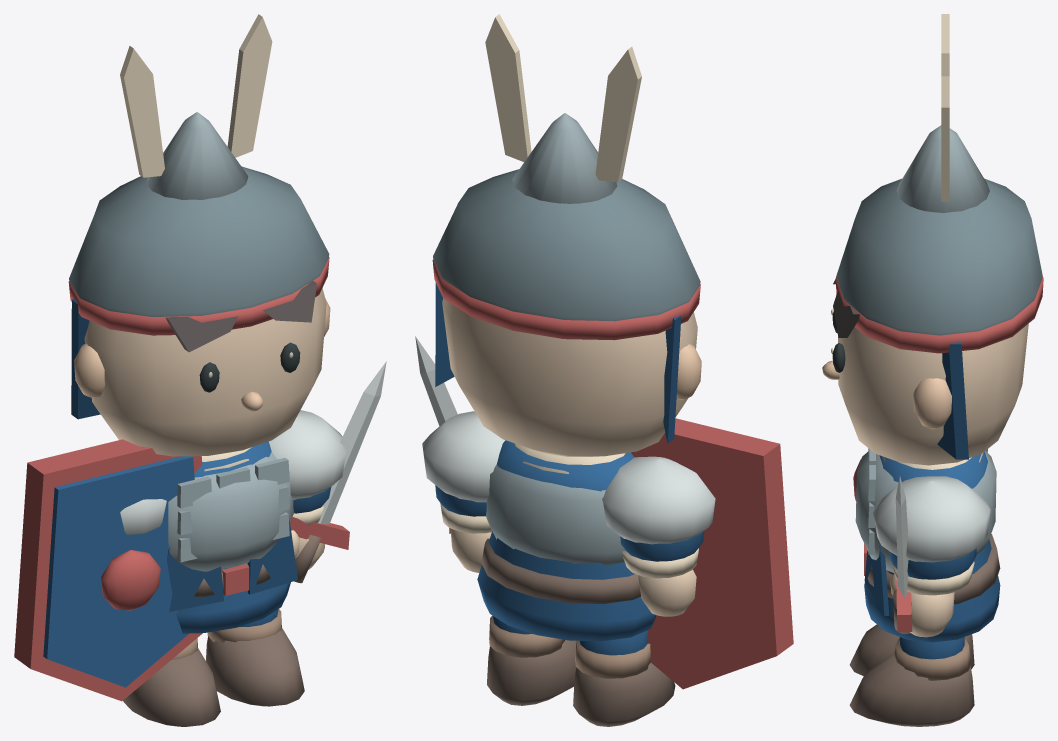
The model's file is guard.glb.
3 renders of one model, left to right at view 1: azimuth 30°, elevation 25°; view 2: azimuth 150°, elevation 25°; view 3: azimuth 270°, elevation 25°, orthographic. The views are drawn at different scales.
Parts seen in each view (by area): view 1: Regional helmet, Soft cheek head, Regional shield face, Shield gold rim, Rounded breastplate, Round leather boot.001, Goguryeo pointed crown, Round leather boot, Big shoulder armour.001, Short folded tunic, Feather plume.001, Feather plume (+16 smaller); view 2: Regional helmet, Shield gold rim, Soft cheek head, Short folded tunic, Rounded breastplate, Big shoulder armour, Goguryeo pointed crown, Big shoulder armour.001, Helmet brow band, Round leather boot, Round leather boot.001, Broad leather belt (+16 smaller); view 3: Regional helmet, Soft cheek head, Big shoulder armour.001, Round leather boot.001, Goguryeo pointed crown, Short folded tunic, Helmet brow band, Rounded breastplate, Lamellar neck flap.001, Little mitten.001, Boot turn cuff.001, Ear.001 (+11 smaller).
Part boxes in pixels (x1,y1,x2,y2): Regional helmet: (69,166,329,316); Soft cheek head: (84,288,326,456); Regional shield face: (43,456,194,687); Shield gold rim: (14,439,202,701); Rounded breastplate: (168,452,294,571); Round leather boot.001: (206,627,304,706); Goguryeo pointed crown: (146,112,248,199); Round leather boot: (123,648,220,726); Big shoulder armour.001: (269,410,346,499); Short folded tunic: (176,441,290,633); Feather plume.001: (227,14,272,157); Feather plume: (120,46,164,177); Regional helmet: (433,169,700,321); Shield gold rim: (631,418,793,689); Soft cheek head: (442,298,697,456); Short folded tunic: (477,440,656,641); Rounded breastplate: (486,464,625,566); Big shoulder armour: (602,456,715,544); Goguryeo pointed crown: (512,113,617,203); Big shoulder armour.001: (422,411,505,502); Helmet brow band: (432,259,700,340); Round leather boot: (573,662,675,726); Round leather boot.001: (487,640,576,705); Broad leather belt: (481,538,640,603); Regional helmet: (836,178,1042,335); Soft cheek head: (838,324,1028,465); Big shoulder armour.001: (873,476,990,562); Round leather boot.001: (849,653,974,726); Goguryeo pointed crown: (896,125,989,212); Short folded tunic: (864,451,1000,642); Helmet brow band: (835,276,1043,353); Rounded breastplate: (855,451,996,572); Lamellar neck flap.001: (937,342,968,459); Little mitten.001: (910,592,954,637); Boot turn cuff.001: (894,639,971,680); Ear.001: (913,378,951,429).
Size of the model in its own units: 1.12 by 1.95 by 0.602.
